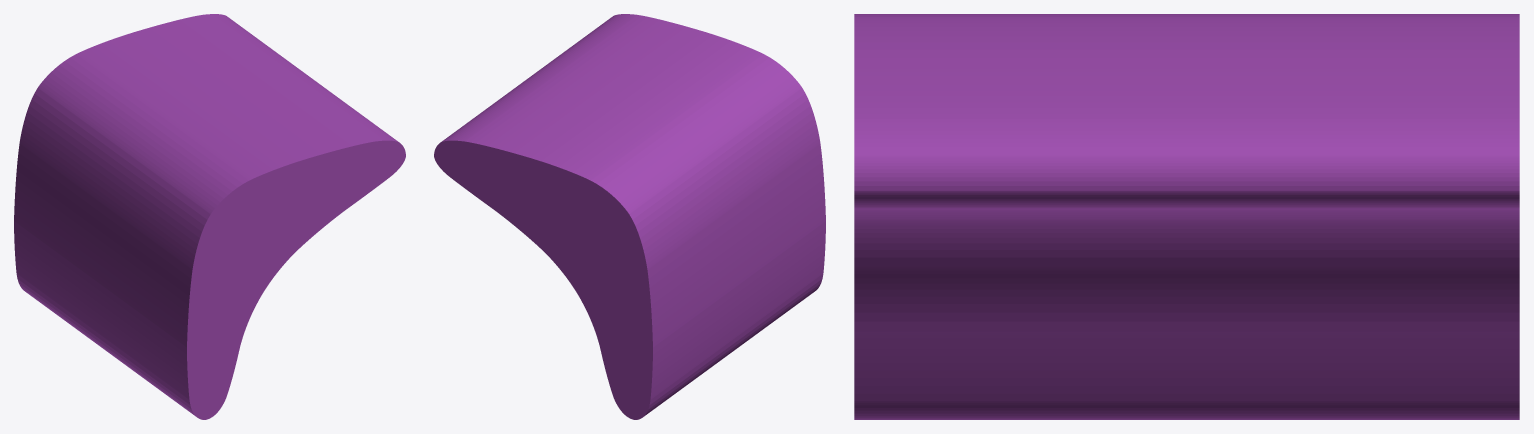
The picture shows the model from 3 angles, left to right: view 1: azimuth 30°, elevation 25°; view 2: azimuth 150°, elevation 25°; view 3: azimuth 270°, elevation 25°; orthographic projection. The views are drawn at different scales.
Visible parts, largest first — view 1: U+1F7EA_layer00_obj00; view 2: U+1F7EA_layer00_obj00; view 3: U+1F7EA_layer00_obj00.
Boxes of the visible parts, x1,y1,x2,y2 form: U+1F7EA_layer00_obj00: (14, 14, 405, 419); U+1F7EA_layer00_obj00: (434, 14, 825, 419); U+1F7EA_layer00_obj00: (854, 14, 1519, 419).
Bounding box in the file's own units: 0.0731 × 0.0759 × 0.1.
